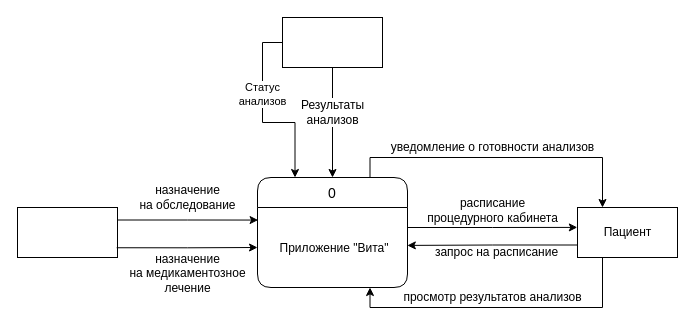
The diagram is 695 pixels wide and 333 high, and some of its shapes have lost their labels. The centre of each missing label's shape, as x and y in pixels:
"Врач" belongs at point 67,232.
"Лаборатория" belongs at point 332,42.
